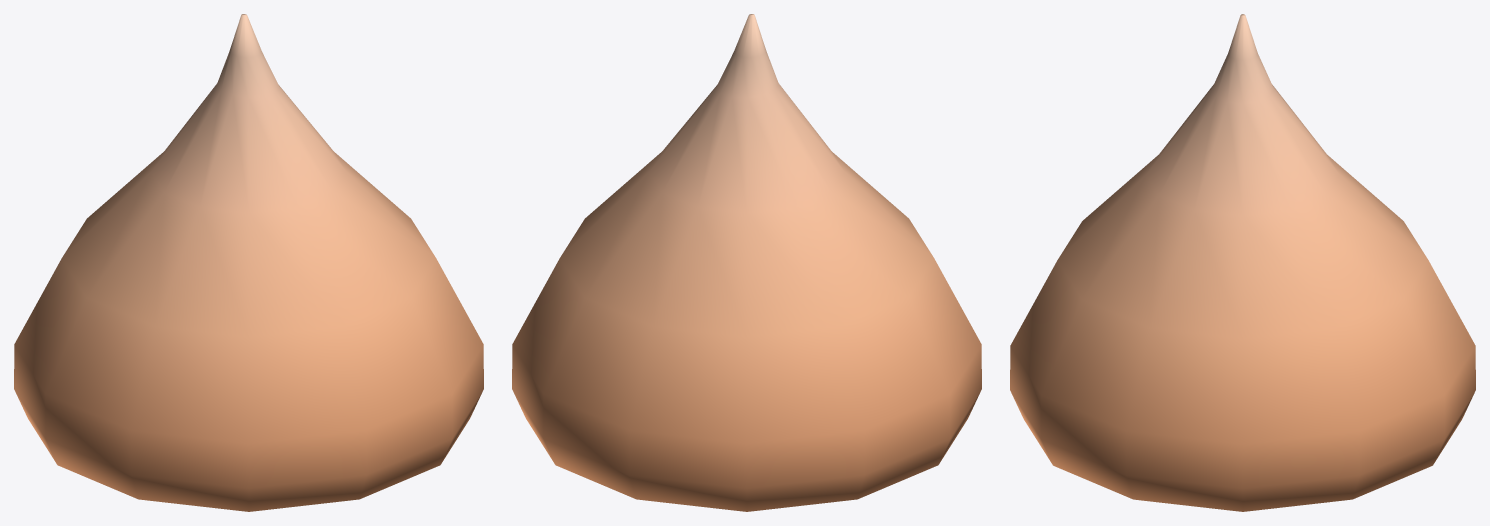
The model's file is candy_choco_3.fbx.
3 renders of one model, left to right at view 1: azimuth 30°, elevation 25°; view 2: azimuth 150°, elevation 25°; view 3: azimuth 270°, elevation 25°, orthographic.
Visible parts, largest first — view 1: c_c_3; view 2: c_c_3; view 3: c_c_3.
Part boxes in pixels (left/top/right/bottom): c_c_3: left=14, top=14, right=483, bottom=511; c_c_3: left=512, top=14, right=981, bottom=511; c_c_3: left=1010, top=14, right=1475, bottom=511.
Bounding box in the file's own units: 117 × 115 × 117.
